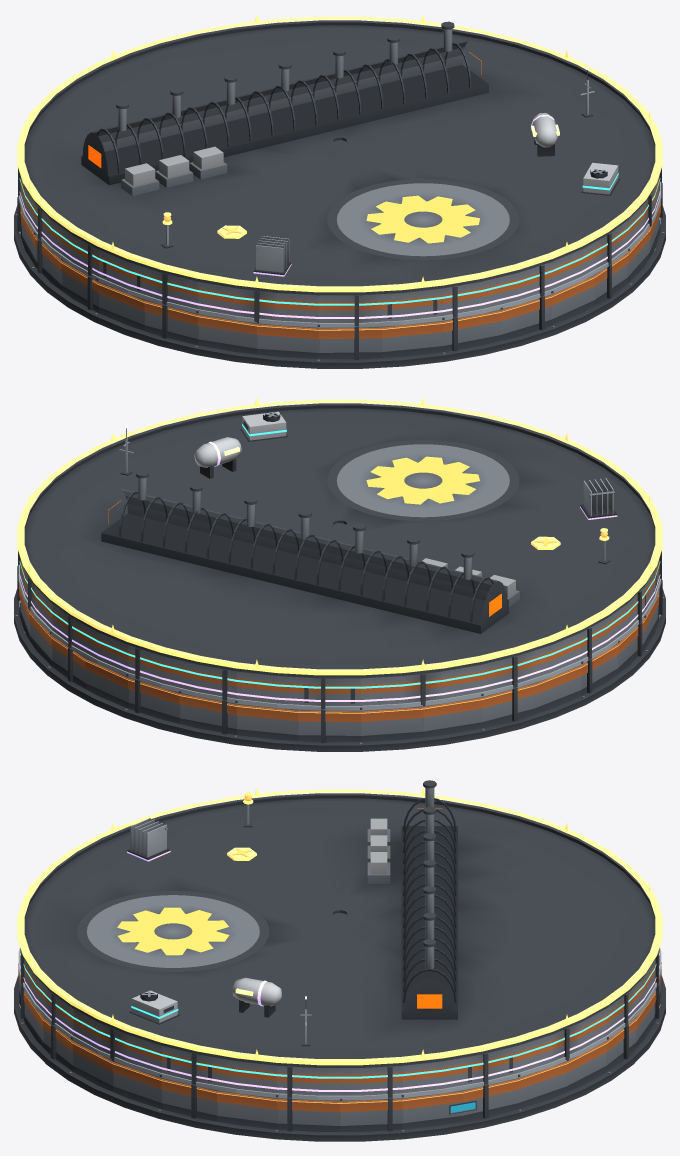
Rendered from ceramics_kiln_xl.glb.
3 renders of one model, top to bottom at view 1: azimuth 30°, elevation 25°; view 2: azimuth 150°, elevation 25°; view 3: azimuth 270°, elevation 25°, orthographic.
Parts seen in each view (by area): view 1: Roof, Base, L4, Wall_21, Wall_20, Wall_22, Wall_19, Wall_23, Wall_18, Wall_24, Upper_20, Upper_21 (+21 smaller); view 2: Roof, Base, L4, Wall_10, Wall_11, Wall_09, Wall_12, Wall_08, Wall_13, Wall_07, Upper_11, Upper_09 (+21 smaller); view 3: Roof, Base, L4, Wall_00, Wall_31, Wall_30, Wall_01, Wall_29, Wall_02, Upper_00, Upper_31, Wall_28 (+20 smaller).
Part boxes in pixels (<box>): Roof: <box>24,20,655,295</box>; Base: <box>14,206,665,368</box>; L4: <box>253,112,559,276</box>; Wall_21: <box>319,326,381,359</box>; Wall_20: <box>256,322,318,358</box>; Wall_22: <box>382,320,443,357</box>; Wall_19: <box>197,314,256,354</box>; Wall_23: <box>443,309,500,352</box>; Wall_18: <box>144,300,198,345</box>; Wall_24: <box>500,294,551,340</box>; Upper_20: <box>256,290,318,322</box>; Upper_21: <box>319,294,381,326</box>; Roof: <box>24,403,655,678</box>; Base: <box>14,589,665,751</box>; L4: <box>194,437,617,519</box>; Wall_10: <box>298,709,360,742</box>; Wall_11: <box>361,706,423,741</box>; Wall_09: <box>236,703,297,740</box>; Wall_12: <box>423,697,482,737</box>; Wall_08: <box>179,691,236,735</box>; Wall_13: <box>481,683,535,728</box>; Wall_07: <box>128,677,179,723</box>; Upper_11: <box>361,673,423,705</box>; Upper_09: <box>237,671,298,704</box>; Roof: <box>24,780,655,1067</box>; Base: <box>14,975,665,1141</box>; L4: <box>127,818,281,1017</box>; Wall_00: <box>340,1097,402,1131</box>; Wall_31: <box>277,1097,339,1131</box>; Wall_30: <box>217,1090,277,1129</box>; Wall_01: <box>402,1090,462,1129</box>; Wall_29: <box>161,1078,217,1121</box>; Wall_02: <box>462,1078,518,1121</box>; Upper_00: <box>340,1066,402,1097</box>; Upper_31: <box>277,1066,339,1097</box>; Wall_28: <box>112,1060,161,1109</box>.
Bounding box in the file's own units: 23.15 × 5.35 × 23.15.
